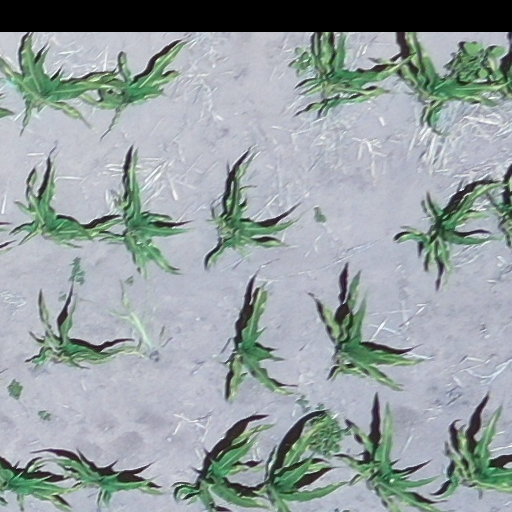planta: (313, 271, 429, 390), (95, 148, 198, 279), (394, 182, 511, 289), (209, 154, 315, 269), (12, 153, 125, 247), (24, 286, 147, 370), (78, 40, 191, 131), (294, 32, 410, 116), (227, 283, 300, 402), (49, 447, 166, 509)
